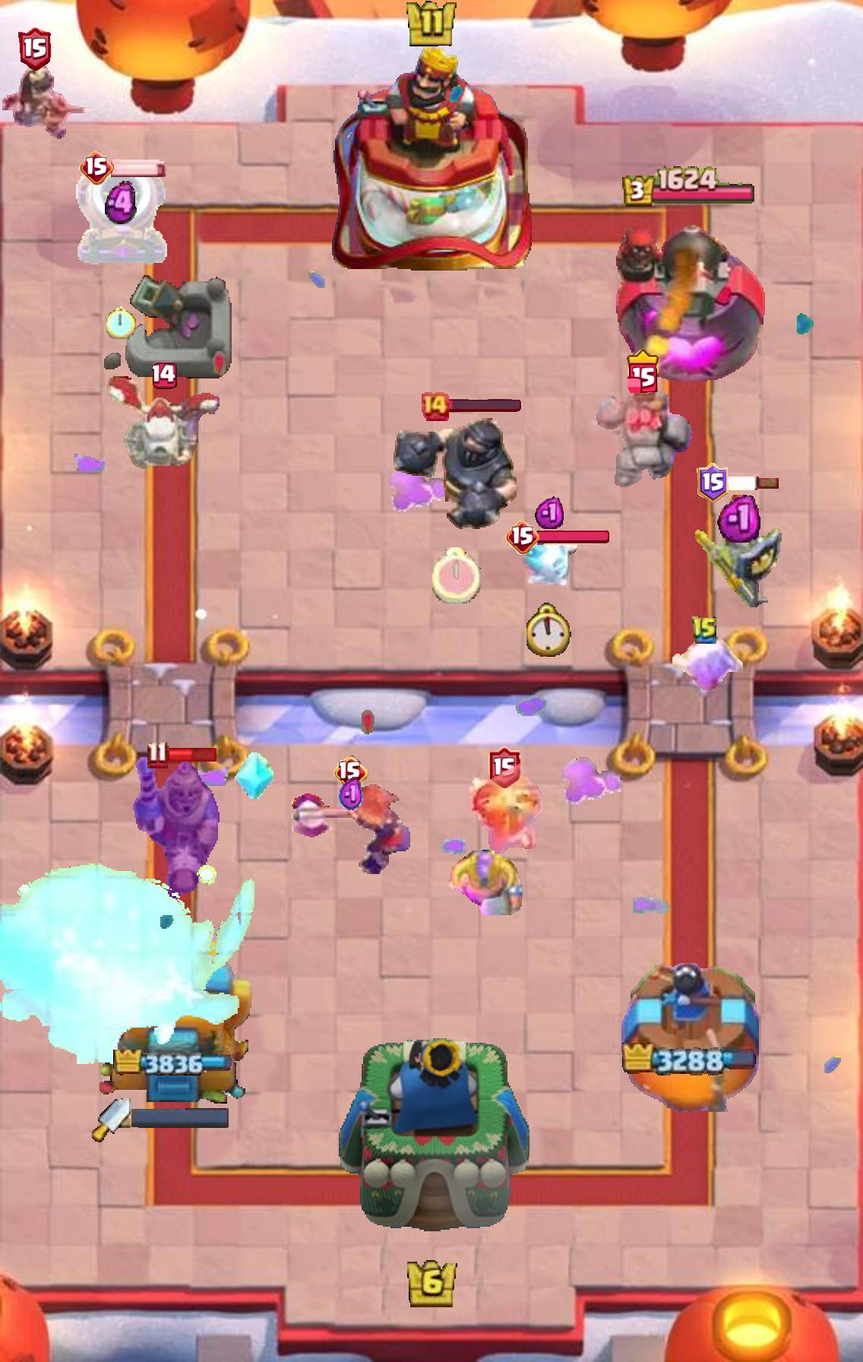elixir: (717, 491, 760, 542), (105, 181, 137, 226), (338, 776, 364, 814), (535, 495, 564, 529)
ice-spirit-evolution: (667, 635, 743, 692)
